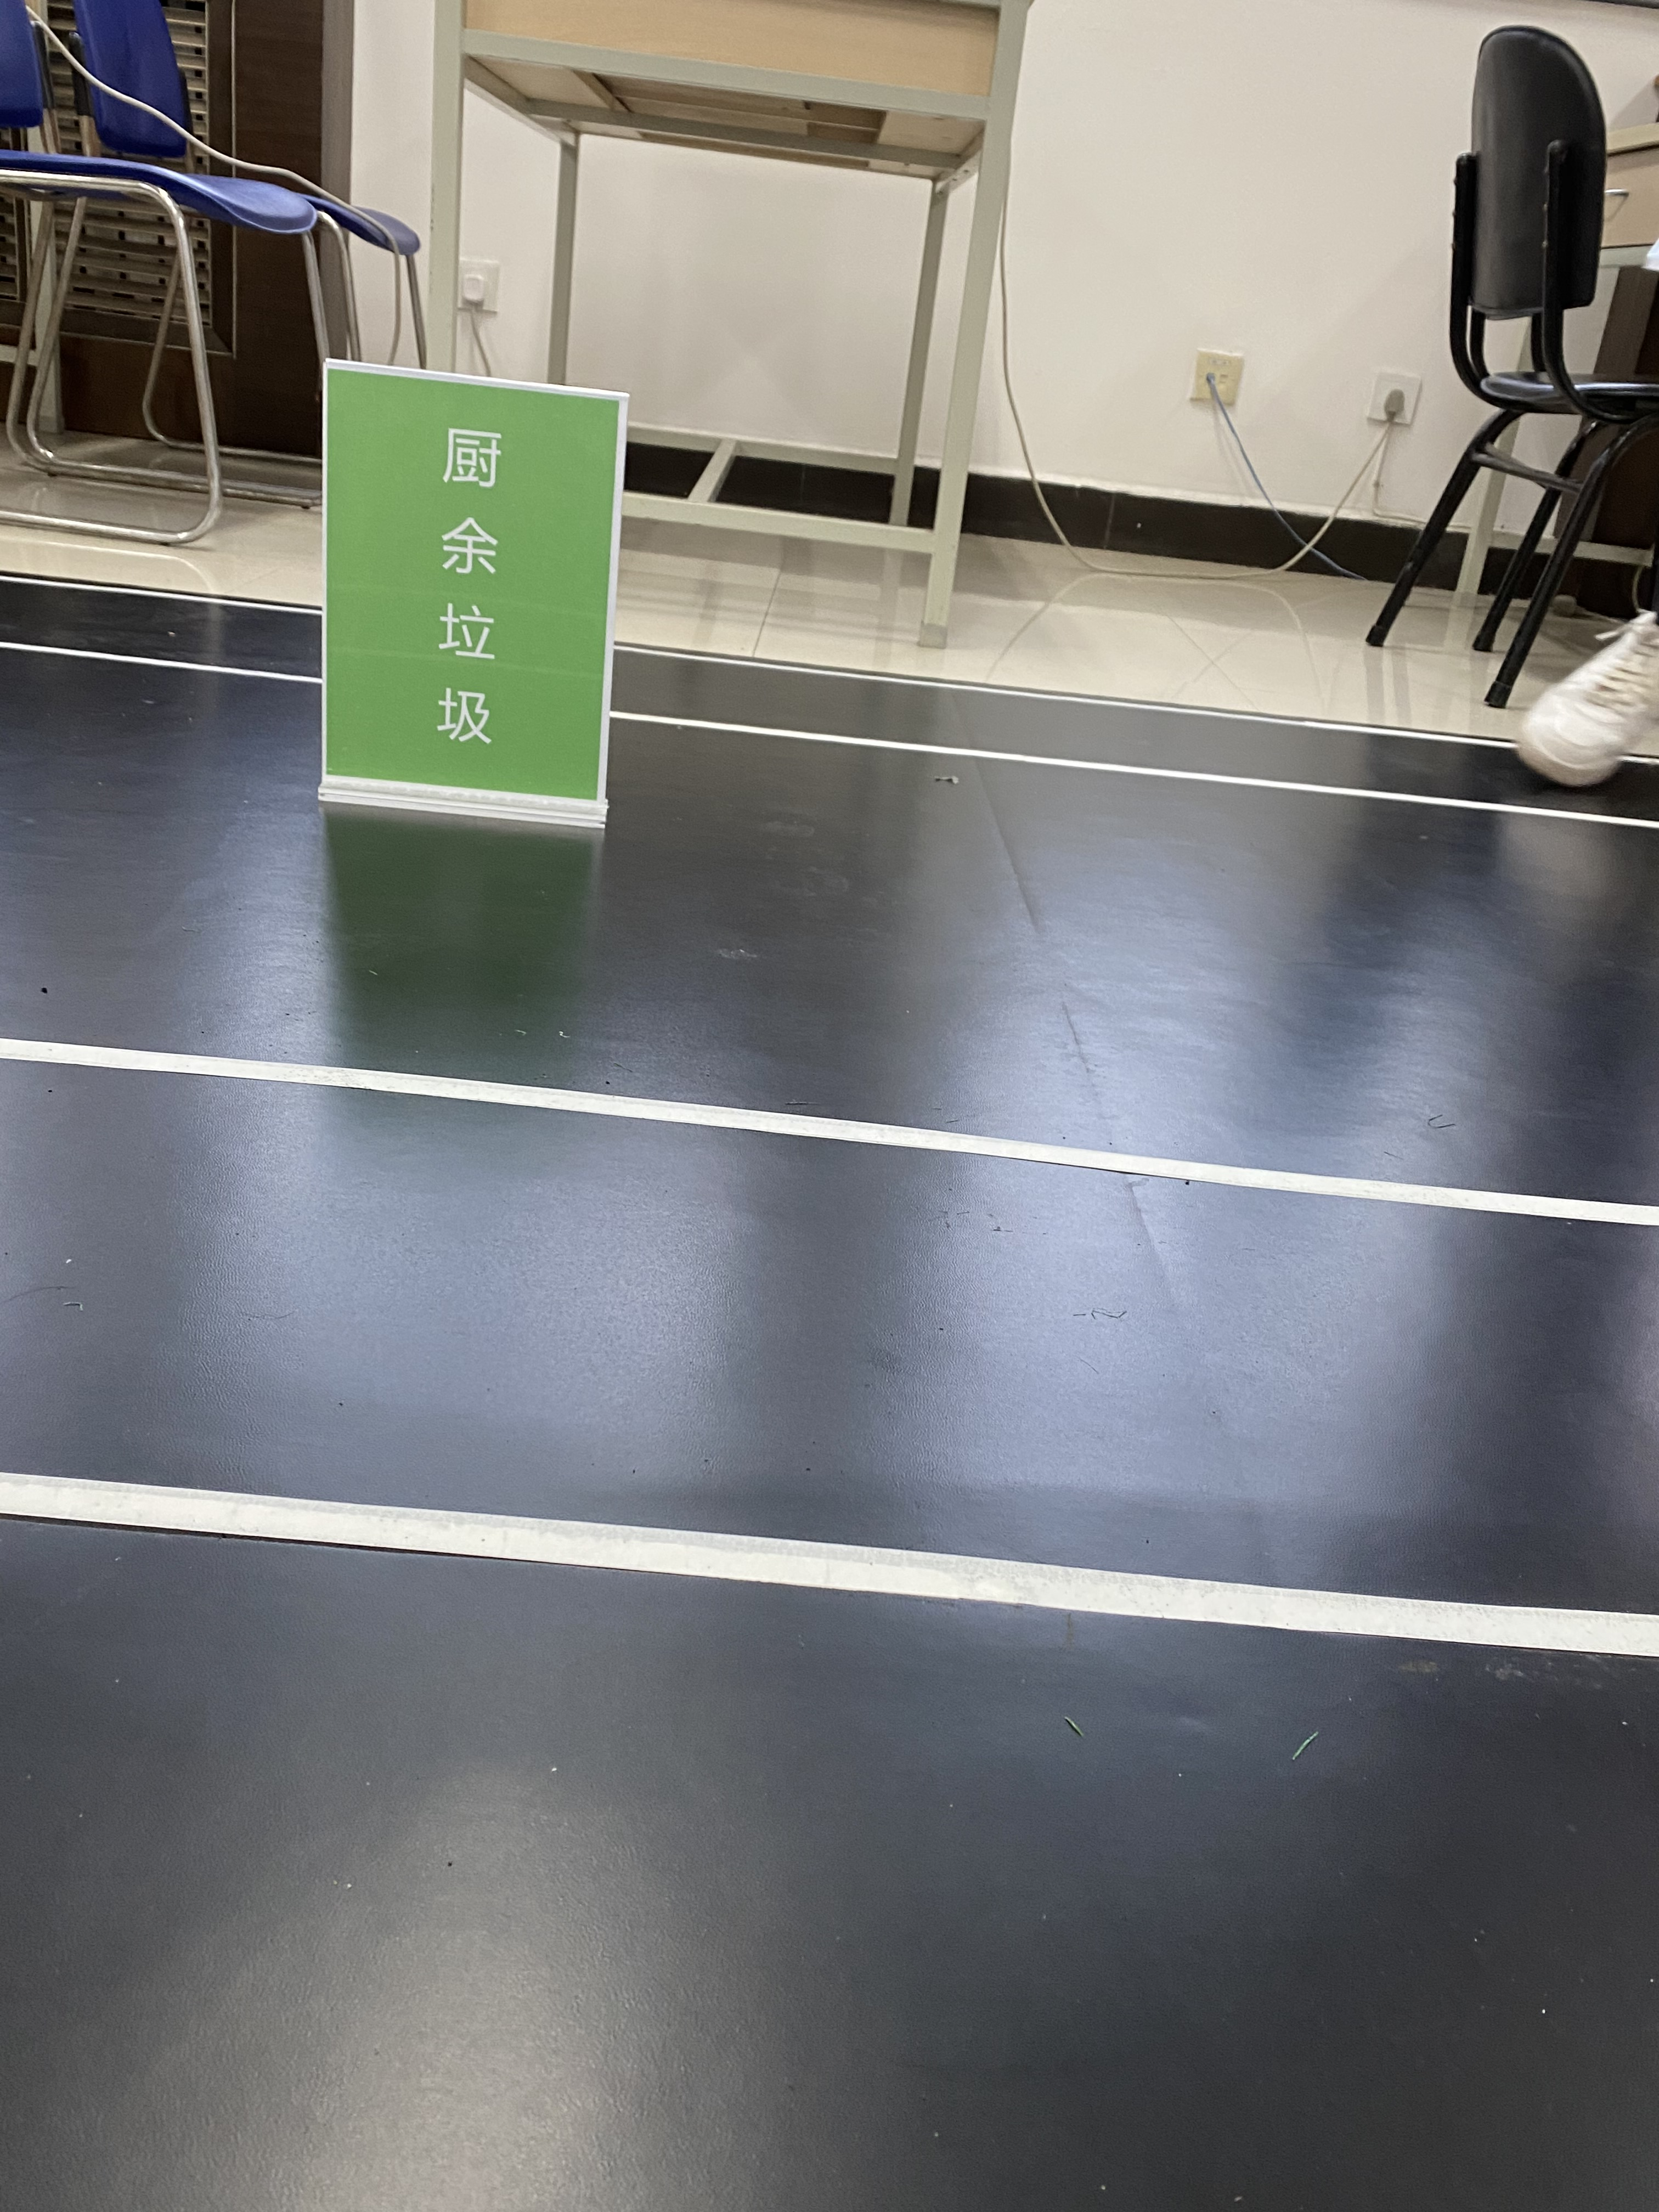green: (342, 387, 587, 773)
